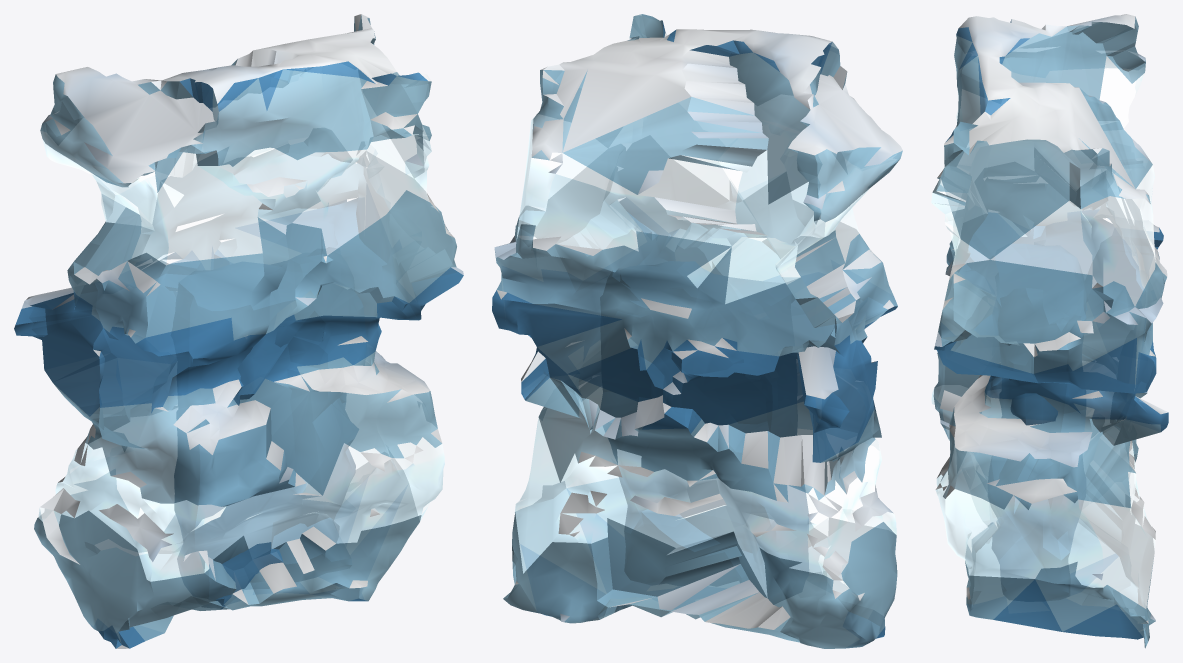
Rendered from frost_ice_cliff_b.glb.
The picture shows the model from 3 angles, left to right: view 1: azimuth 30°, elevation 25°; view 2: azimuth 150°, elevation 25°; view 3: azimuth 270°, elevation 25°; orthographic projection. The views are drawn at different scales.
Visible parts, largest first — view 1: frost_ice_cliff_b; view 2: frost_ice_cliff_b; view 3: frost_ice_cliff_b.
Part boxes in pixels (<box>): frost_ice_cliff_b: <box>14,14,463,648</box>; frost_ice_cliff_b: <box>492,14,902,648</box>; frost_ice_cliff_b: <box>931,14,1168,648</box>.
Size of the model in its own units: 11.31 by 17.16 by 6.88.
